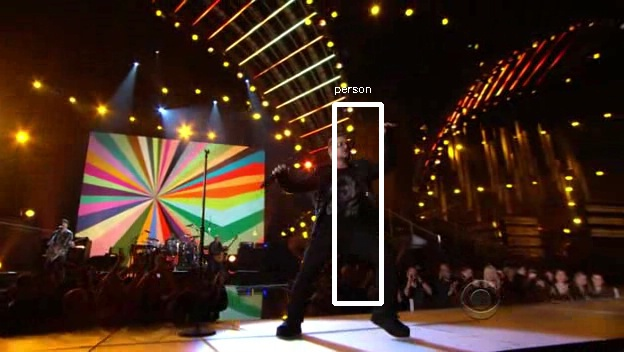person: (311, 133, 378, 255), (308, 133, 375, 255), (314, 133, 381, 255), (311, 130, 378, 252), (311, 136, 378, 258)
target_negative: (87, 82, 441, 134), (365, 62, 400, 297), (197, 131, 235, 310), (569, 226, 616, 295), (573, 155, 589, 276), (459, 309, 508, 315)
